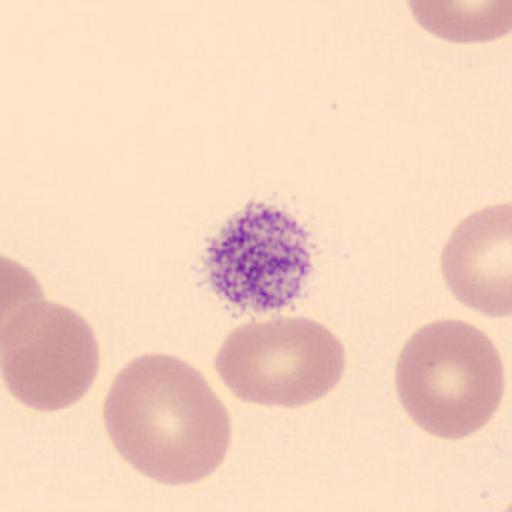Platelet: (194, 196, 322, 320)
RBC: (102, 350, 232, 488), (392, 316, 505, 441), (214, 313, 348, 411), (2, 300, 102, 412), (439, 201, 512, 319), (402, 0, 512, 45), (1, 253, 47, 346)
